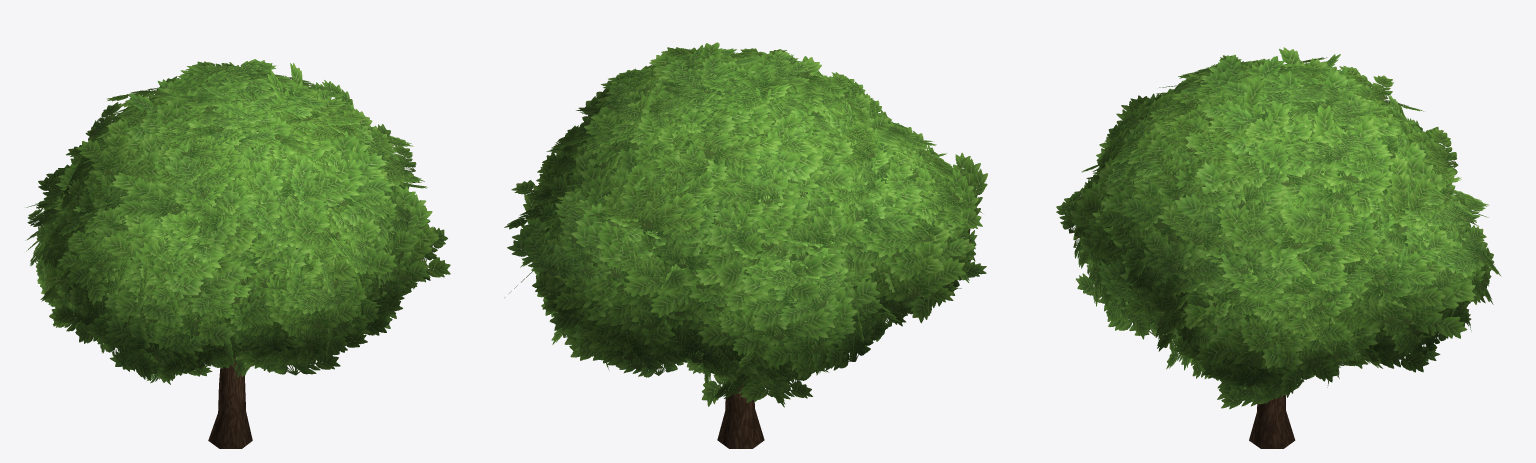
File: broadleaf_a_lod1.glb
3 renders of one model, left to right at view 1: azimuth 30°, elevation 25°; view 2: azimuth 150°, elevation 25°; view 3: azimuth 270°, elevation 25°, orthographic. The views are drawn at different scales.
Visible parts, largest first — view 1: leaves, wood; view 2: leaves, wood; view 3: leaves, wood.
Boxes of the visible parts, x1,y1,x2,y2 form: leaves: (25,59,450,384); wood: (208,357,252,448); leaves: (504,42,987,407); wood: (717,385,764,448); leaves: (1056,47,1501,409); wood: (1249,394,1295,448).
Bounding box in the file's own units: 9.66 × 8.75 × 9.27.
Materials: 2 (2 with a texture image).
